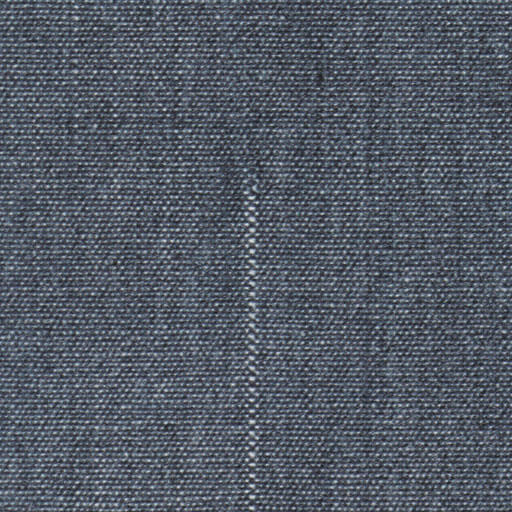slub: (238, 183, 274, 509)
